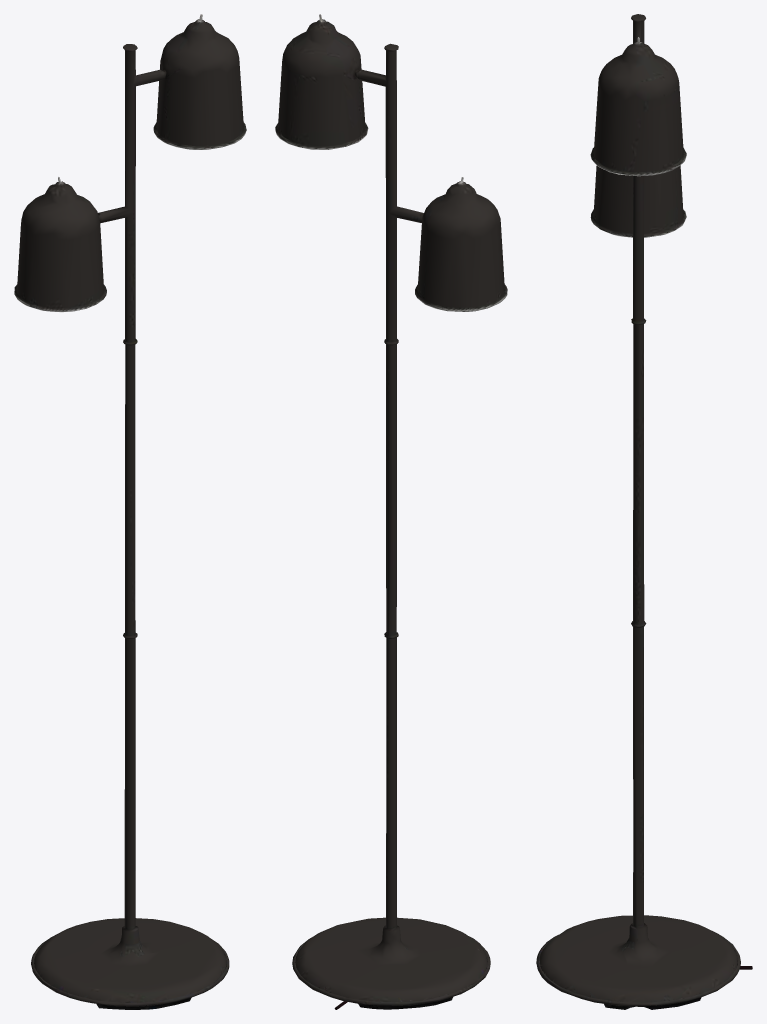
The model's file is 09 - KLÖVING Floor lamp - anthracite.glb.
3 views of the same model, side by side, from view 1: azimuth 30°, elevation 25°; view 2: azimuth 150°, elevation 25°; view 3: azimuth 270°, elevation 25° (orthographic). The views are drawn at different scales.
Visible parts, largest first — view 1: 30540016-KLÃƒâ€“VING001; view 2: 30540016-KLÃƒâ€“VING001; view 3: 30540016-KLÃƒâ€“VING001.
Boxes of the visible parts, x1,y1,x2,y2 form: 30540016-KLÃƒâ€“VING001: (14, 14, 246, 1009); 30540016-KLÃƒâ€“VING001: (275, 14, 507, 1009); 30540016-KLÃƒâ€“VING001: (536, 14, 752, 1009).
Size of the model in its own units: 0.3595 by 1.47 by 0.2971.
Materials: 1 (1 with a texture image).
